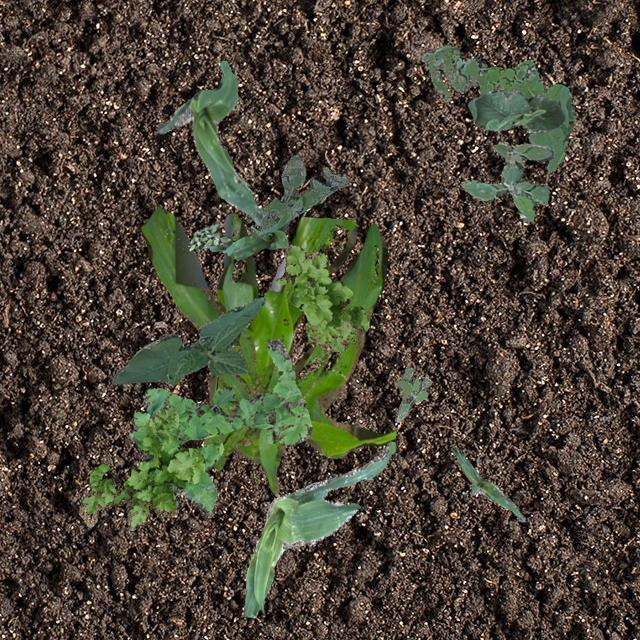crop: (138, 205, 394, 492), (242, 439, 396, 616), (156, 59, 262, 224), (110, 296, 264, 384), (208, 188, 288, 258), (454, 446, 524, 520), (468, 88, 564, 132)
weed: (128, 336, 312, 514), (420, 44, 574, 172), (78, 404, 204, 530), (202, 326, 278, 471), (276, 242, 368, 350), (462, 140, 554, 222), (256, 154, 348, 236), (394, 366, 429, 422), (187, 222, 230, 250)
